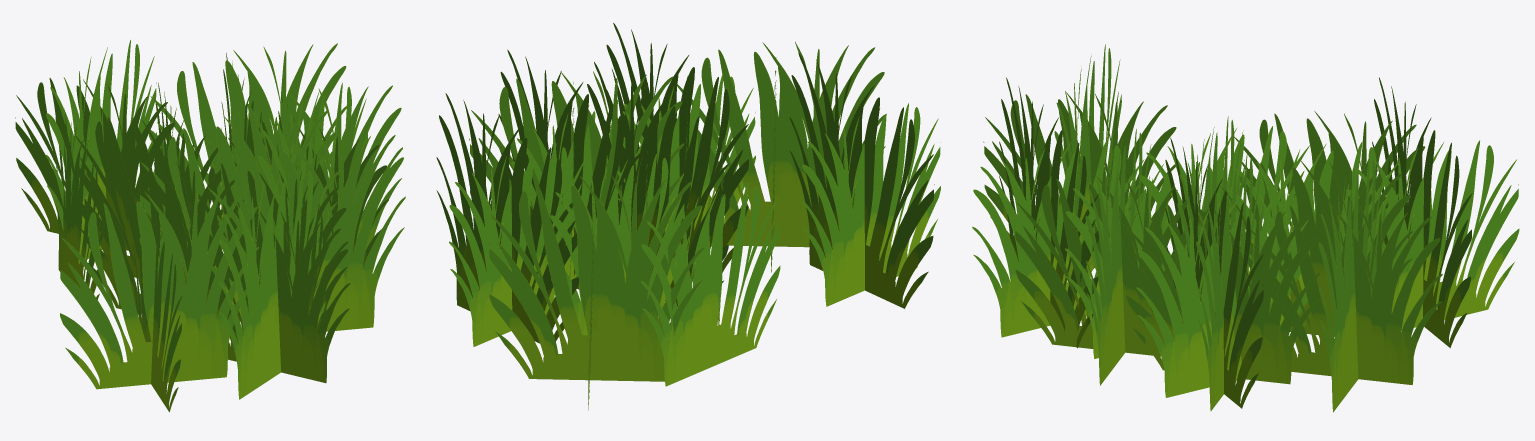
The model's file is GrassOpacity.fbx.
The picture shows the model from 3 angles, left to right: view 1: azimuth 30°, elevation 25°; view 2: azimuth 150°, elevation 25°; view 3: azimuth 270°, elevation 25°; orthographic projection. The views are drawn at different scales.
Parts seen in each view (by area): view 1: GrassTile; view 2: GrassTile; view 3: GrassTile.
Part boxes in pixels (x1,y1,x2,y2): GrassTile: (15, 40, 405, 412); GrassTile: (436, 23, 940, 410); GrassTile: (972, 44, 1519, 412).
Size of the model in its own units: 19.89 by 9.84 by 23.04.
1 material, 1 textured.
